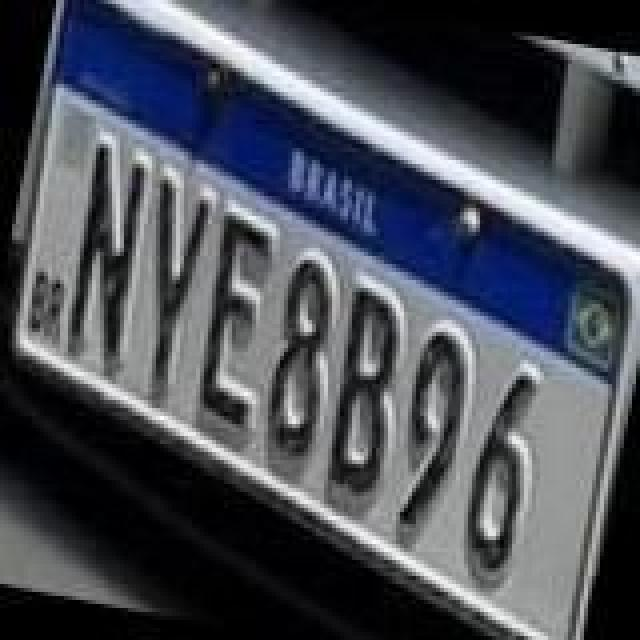6: (458, 364, 550, 564)
8: (256, 250, 352, 462)
9: (384, 322, 480, 534)
B: (316, 284, 420, 500)
E: (180, 208, 292, 432)
N: (48, 138, 160, 382)
Y: (116, 170, 220, 406)
